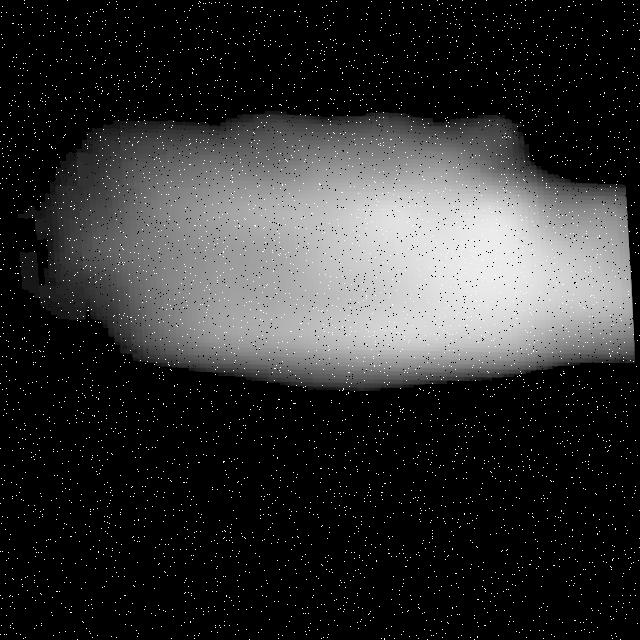person: (60, 62, 640, 423)
